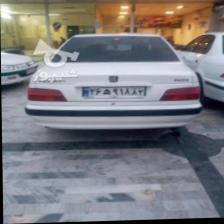plate: (81, 85, 145, 99)
